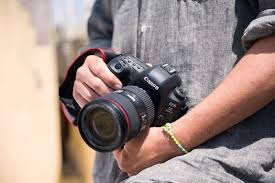camera: (80, 55, 184, 139)
